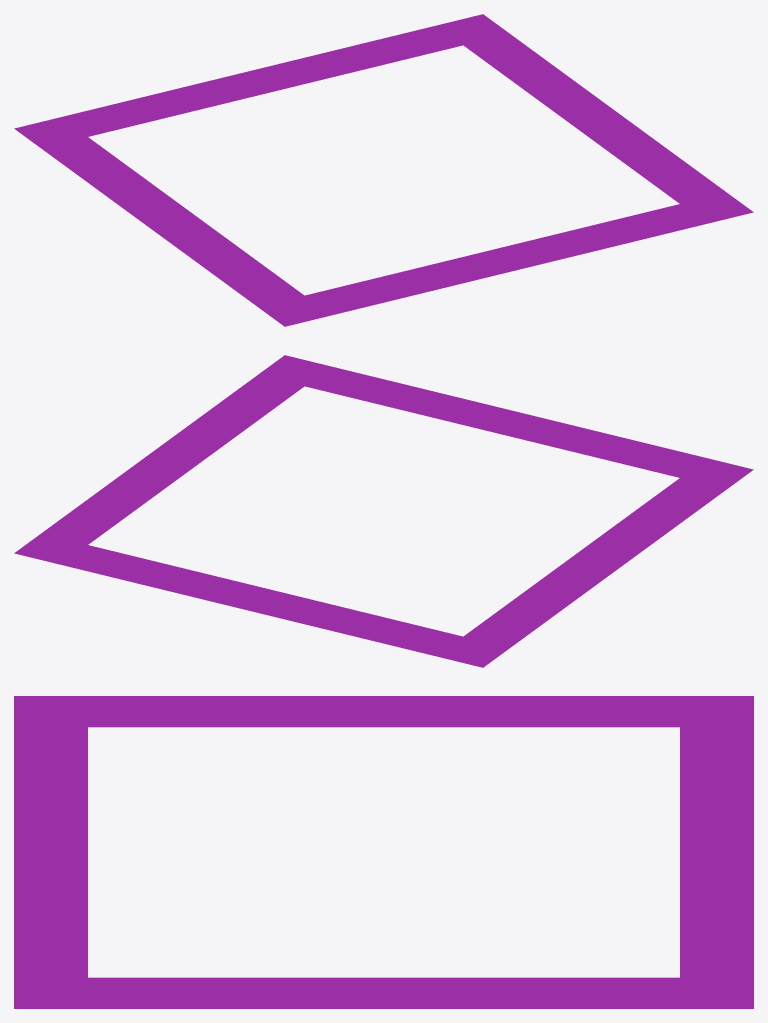
File: Button_PurpleBox.glb
The picture shows the model from 3 angles, top to bottom: view 1: azimuth 30°, elevation 25°; view 2: azimuth 150°, elevation 25°; view 3: azimuth 270°, elevation 25°; orthographic projection. The views are drawn at different scales.
Parts seen in each view (by area): view 1: indicator-special-cross.002; view 2: indicator-special-cross.002; view 3: indicator-special-cross.002.
Part boxes in pixels (box(x1,y1,x2,y2)): indicator-special-cross.002: box(14, 14, 753, 326); indicator-special-cross.002: box(14, 355, 753, 667); indicator-special-cross.002: box(14, 696, 753, 1008).
Size of the model in its own units: 1 by 0 by 1.
